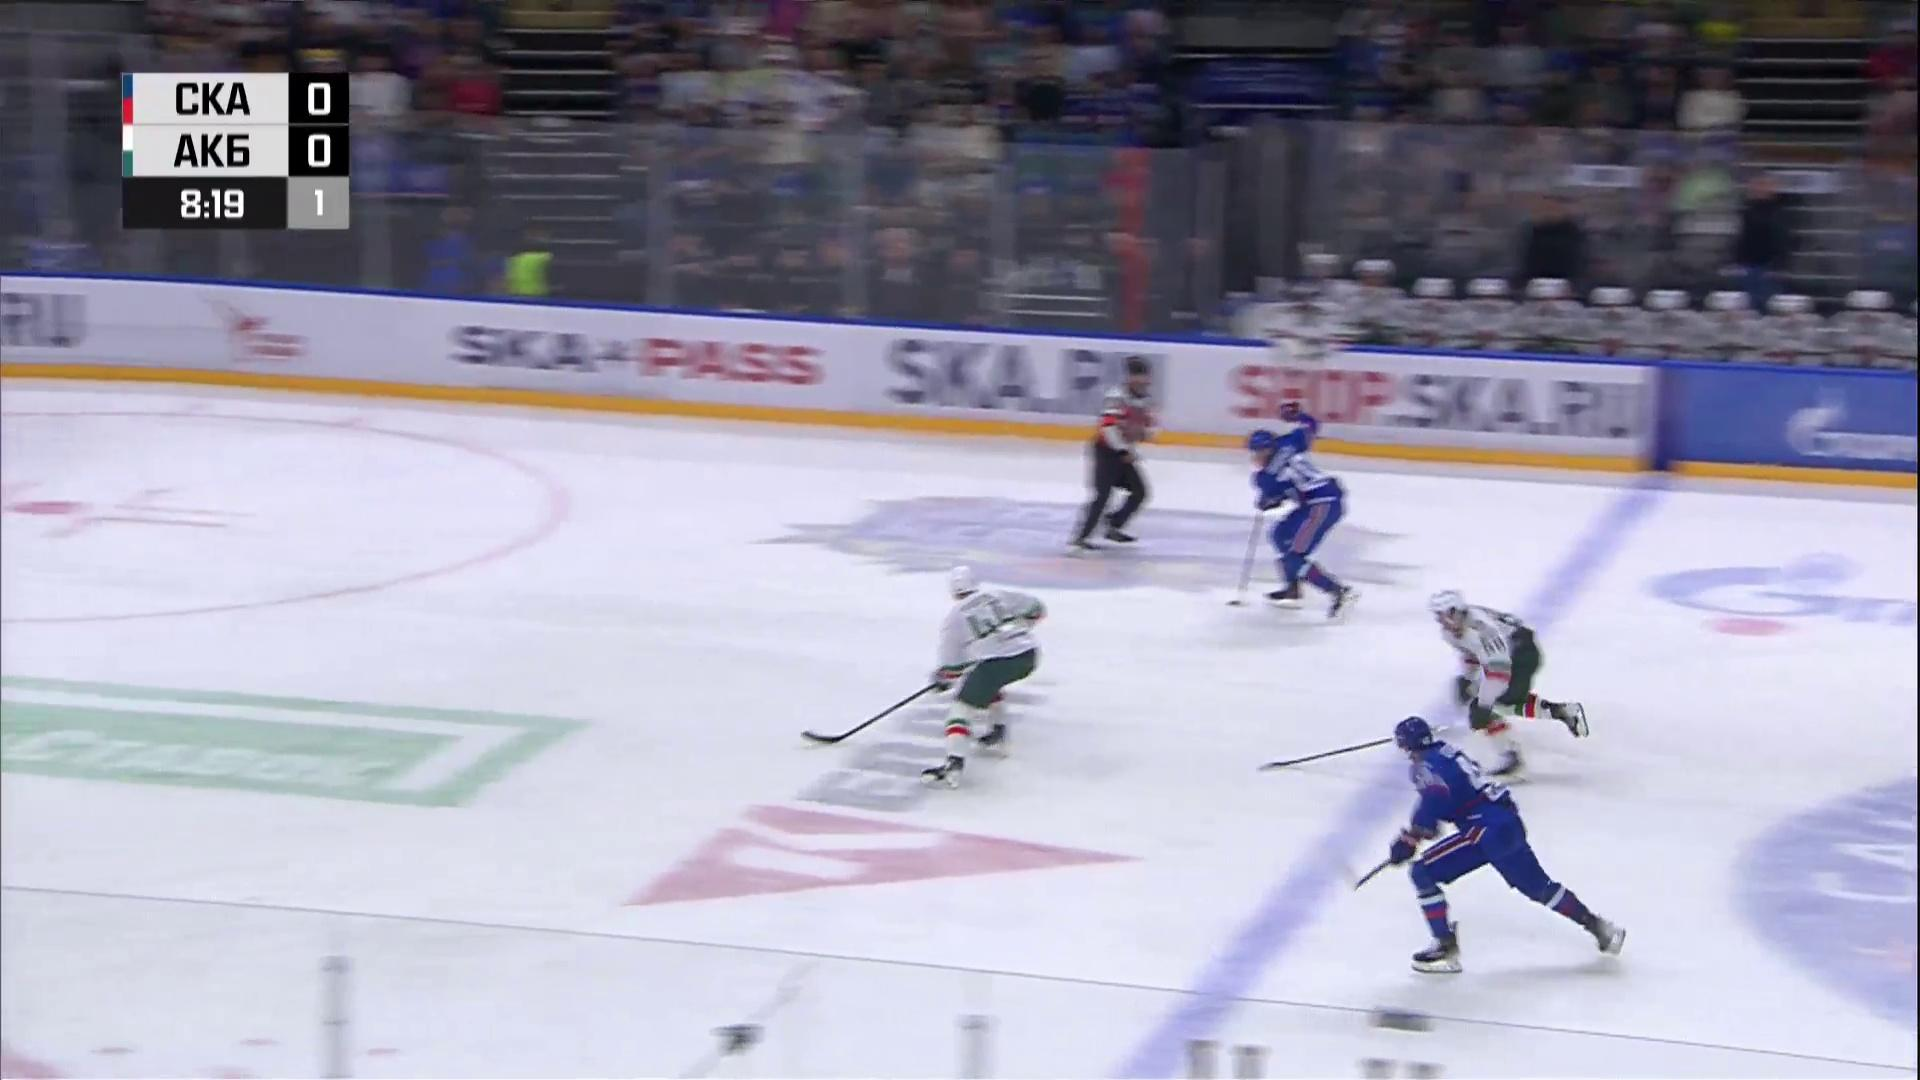ball: (1226, 600, 1240, 608)
